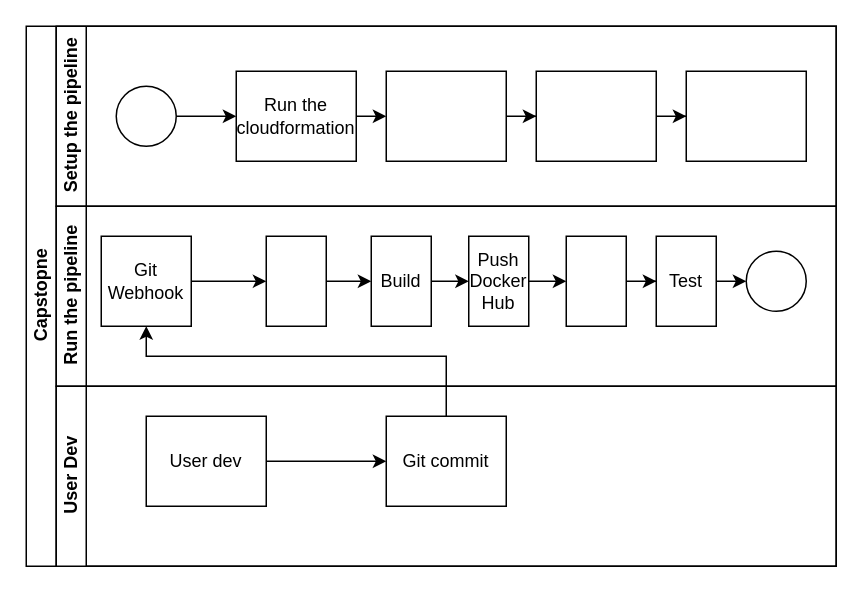
Image size: 863x593. Some labels were removed from this diagram. The shapes that lost their labels are listed below. From the top down, each one's centre as x and y in pixels, then its label:
At (445,115): "Add EKS Node Group".
At (595,115): "Install Jenkins plugins".
At (745,115): "Configure the Pipeline".
At (295,280): "Lint".
At (595,280): "Deploy K8s".
